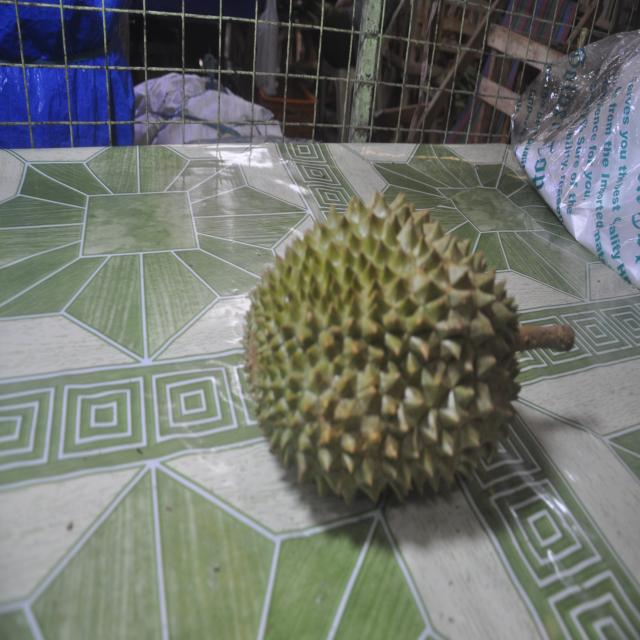mature: (244, 193, 573, 502)
